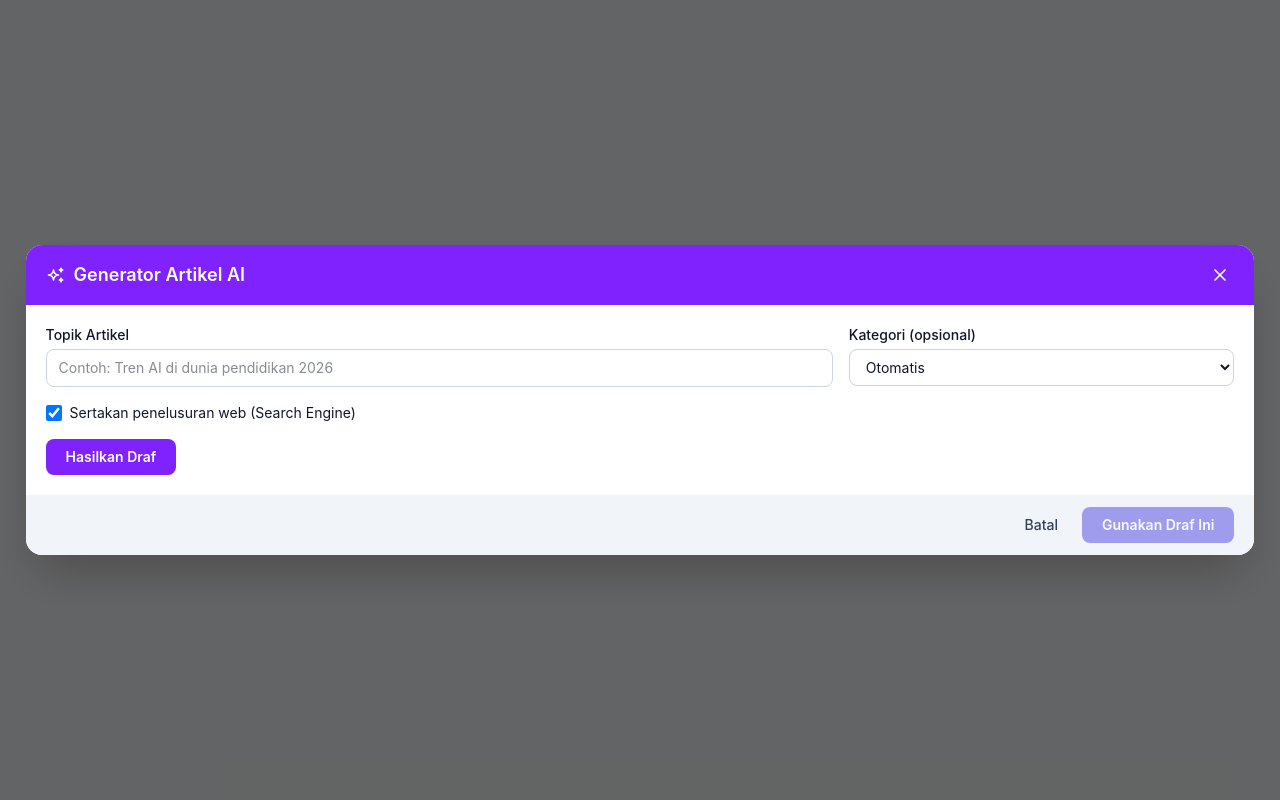
AiPostGeneratorModal › tombol menampilkan "Menghasilkan..." selama permintaan berjalan
Type "Belajar Go" into the field labelled "Topik Artikel".
click(439, 368); type("Belajar Go")  # box [46,349,833,387]
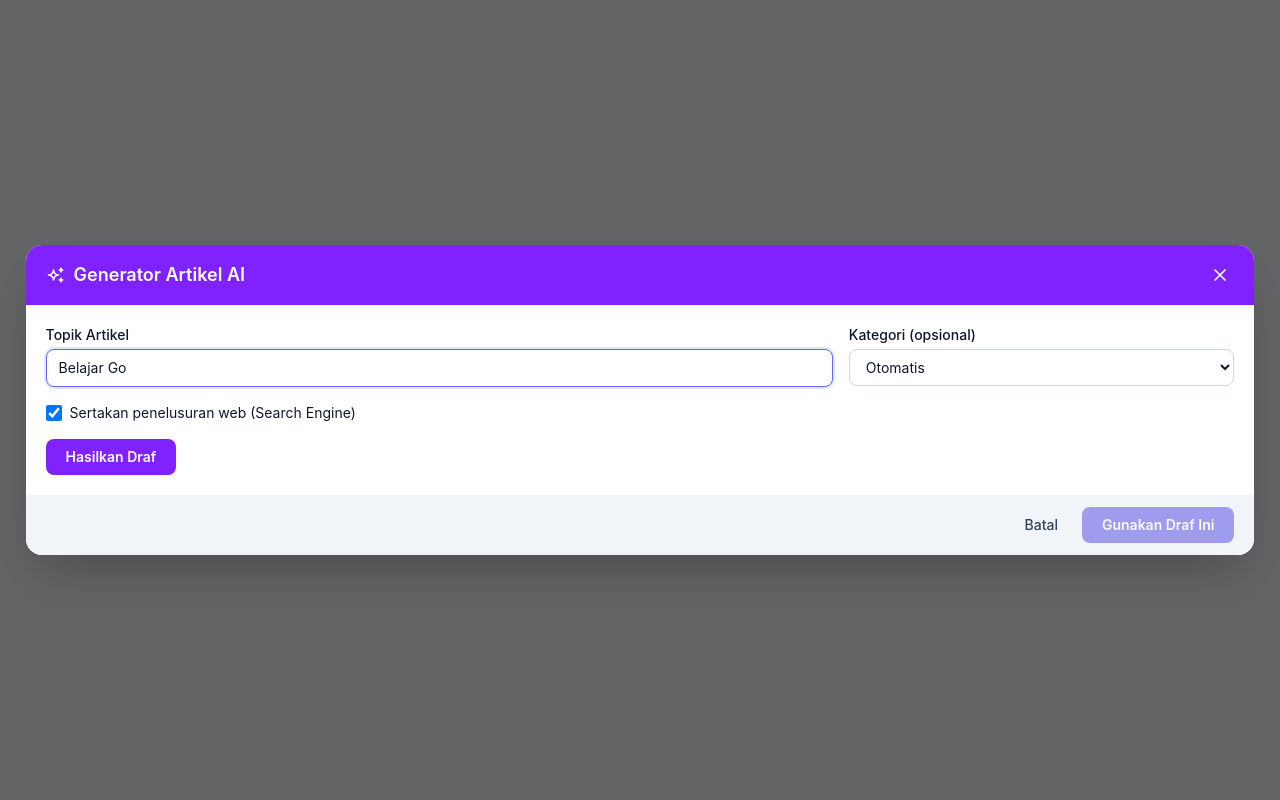
Click the button "Hasilkan Draf".
click(111, 457)  # box [46,439,176,475]
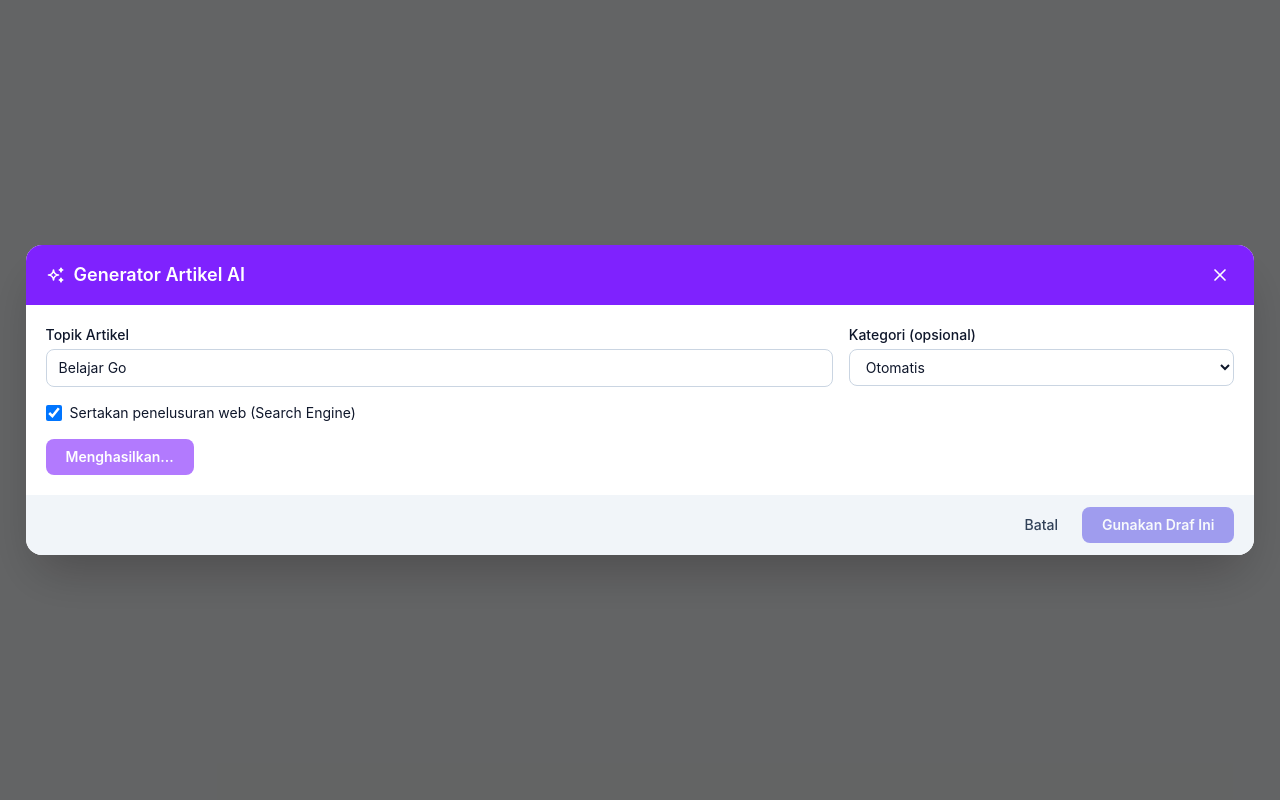
Result: the button "Menghasilkan..." is disabled at [46,439,194,475]
